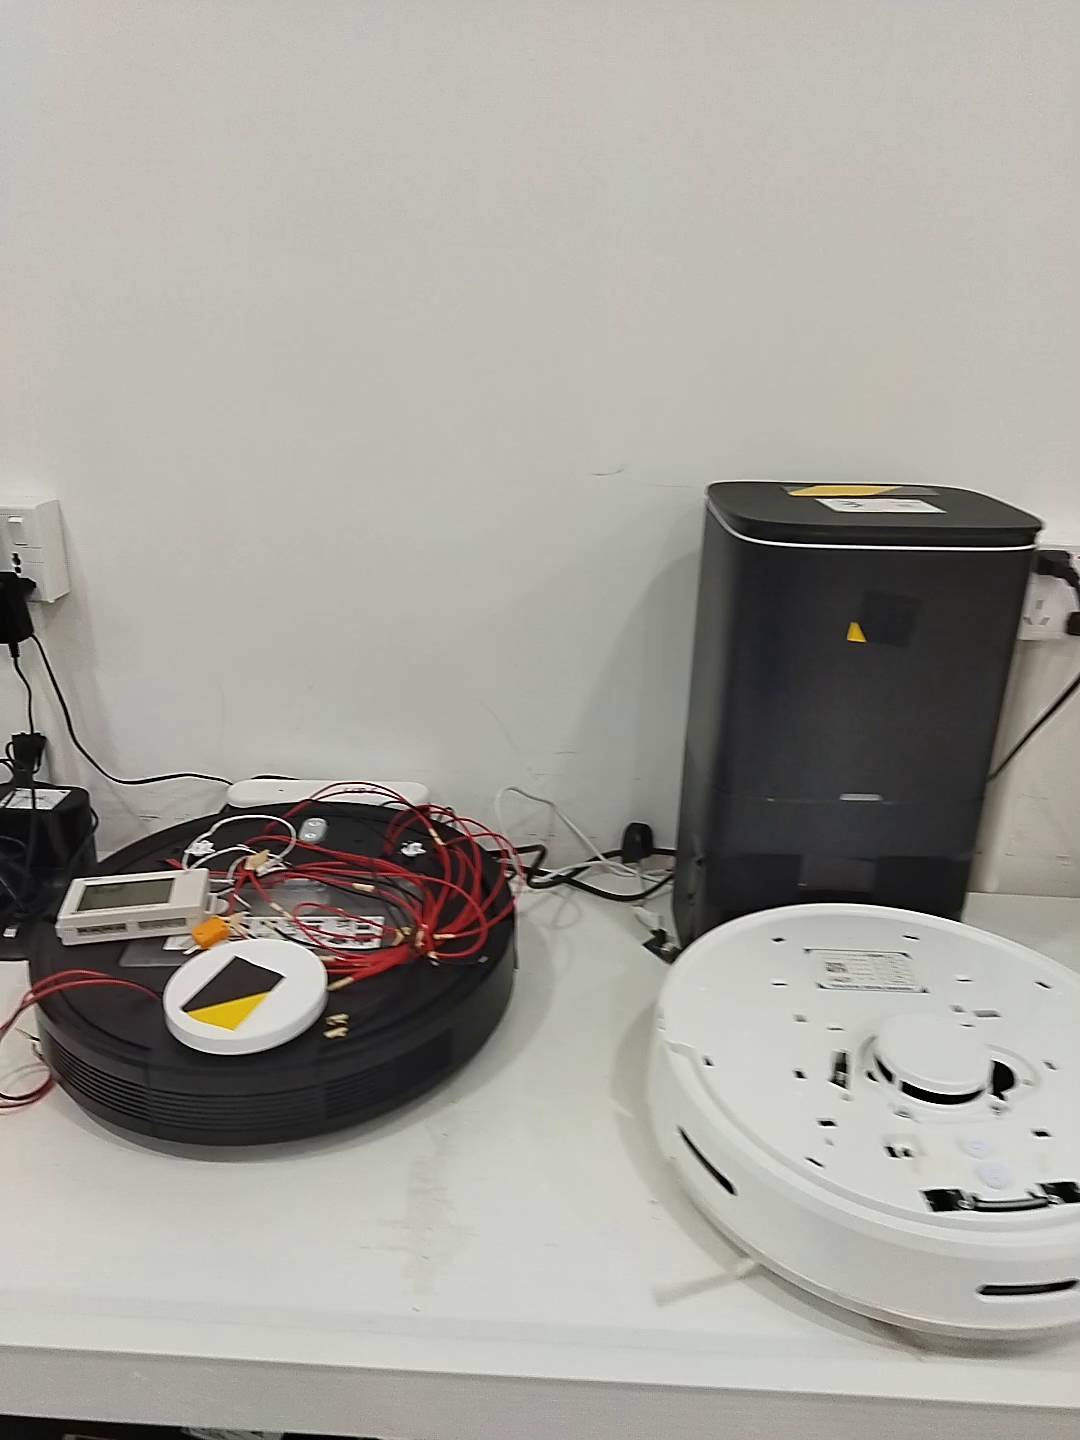dust collecting barrel: (670, 478, 1049, 959)
